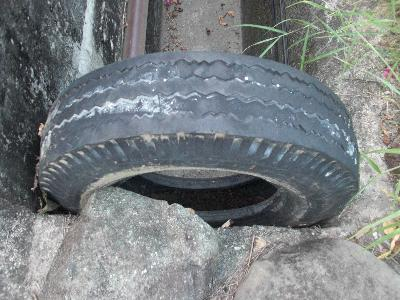tire: (36, 50, 362, 228)
